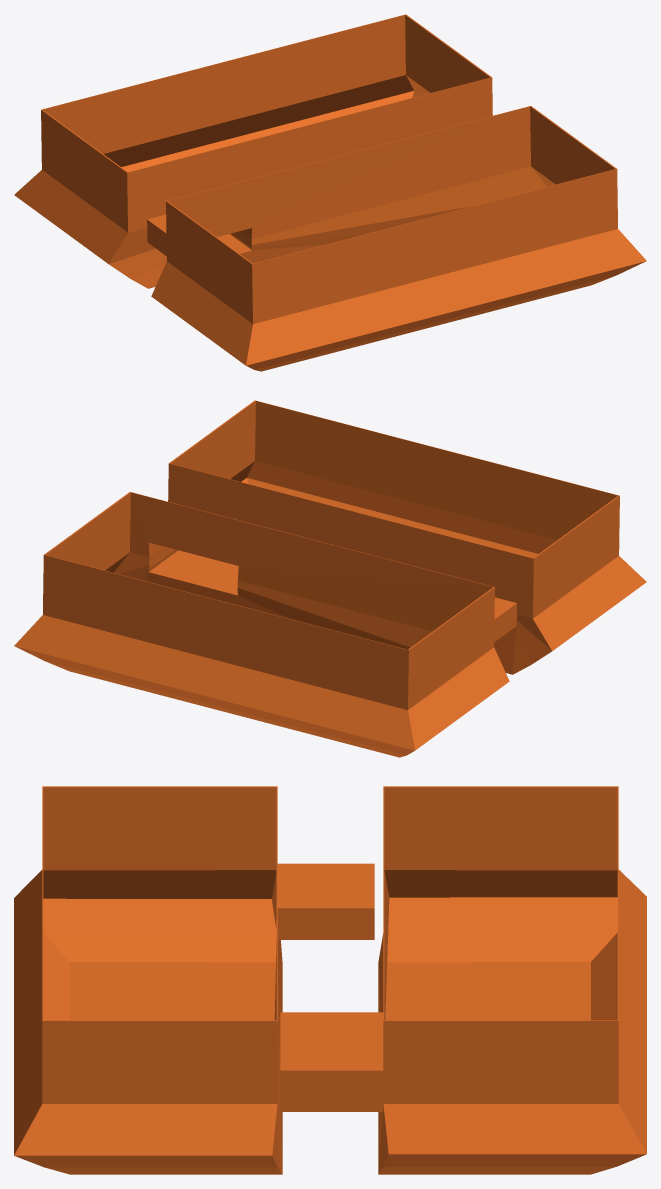
File: Tempat Bawang.fbx
3 views of the same model, one above another, from view 1: azimuth 30°, elevation 25°; view 2: azimuth 150°, elevation 25°; view 3: azimuth 270°, elevation 25° (orthographic). The views are drawn at different scales.
Visible parts, largest first — view 1: Cube, Cube.001; view 2: Cube.001, Cube; view 3: Cube.001, Cube.
Boxes of the visible parts, x1,y1,x2,y2 form: Cube: (147, 106, 646, 371); Cube.001: (14, 14, 492, 288); Cube.001: (14, 492, 509, 757); Cube: (168, 400, 646, 674); Cube.001: (280, 786, 646, 1174); Cube: (14, 786, 374, 1174).
Size of the model in its own units: 538 by 161 by 539.
